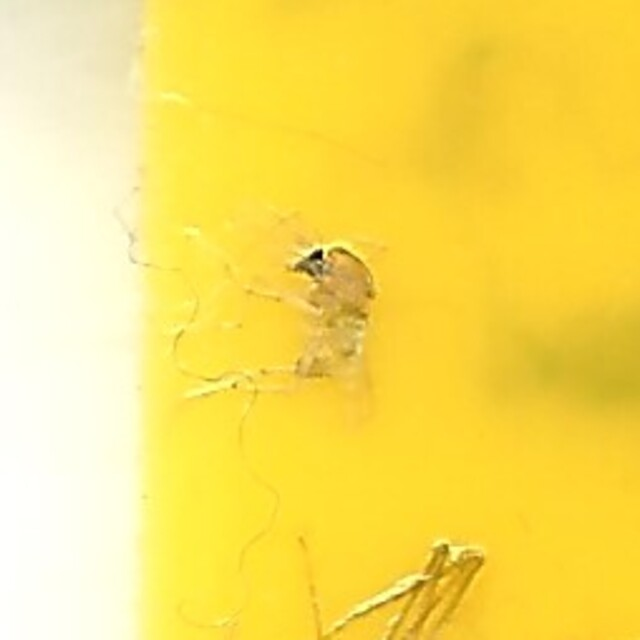Nematocera: (252, 240, 388, 400)
